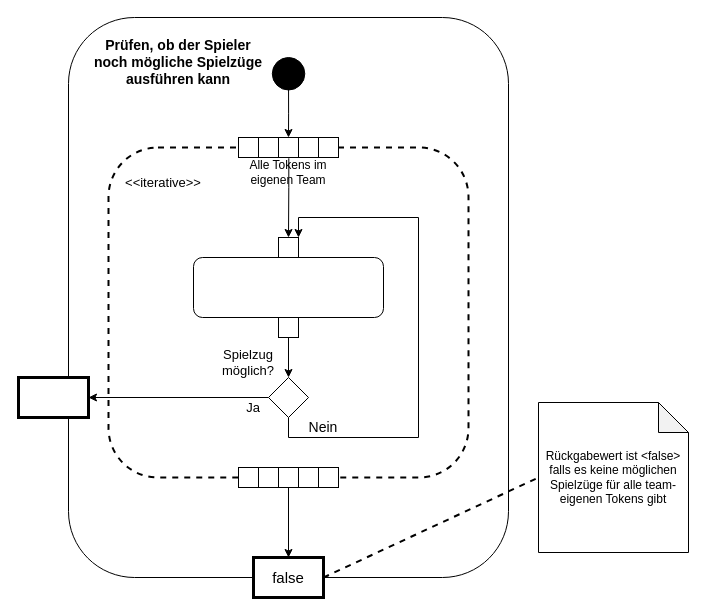
The diagram is 706 pixels wide and 616 high, and some of its shapes have lost their labels. The shapes that lost their labels are listed below. From the top down, each one's centre as x and y in pixels, then its label:
At [288,287]: "Prüfen, ob für diesen Token ein gültiger Spielzug möglich ist".
At [53,397]: "true".
